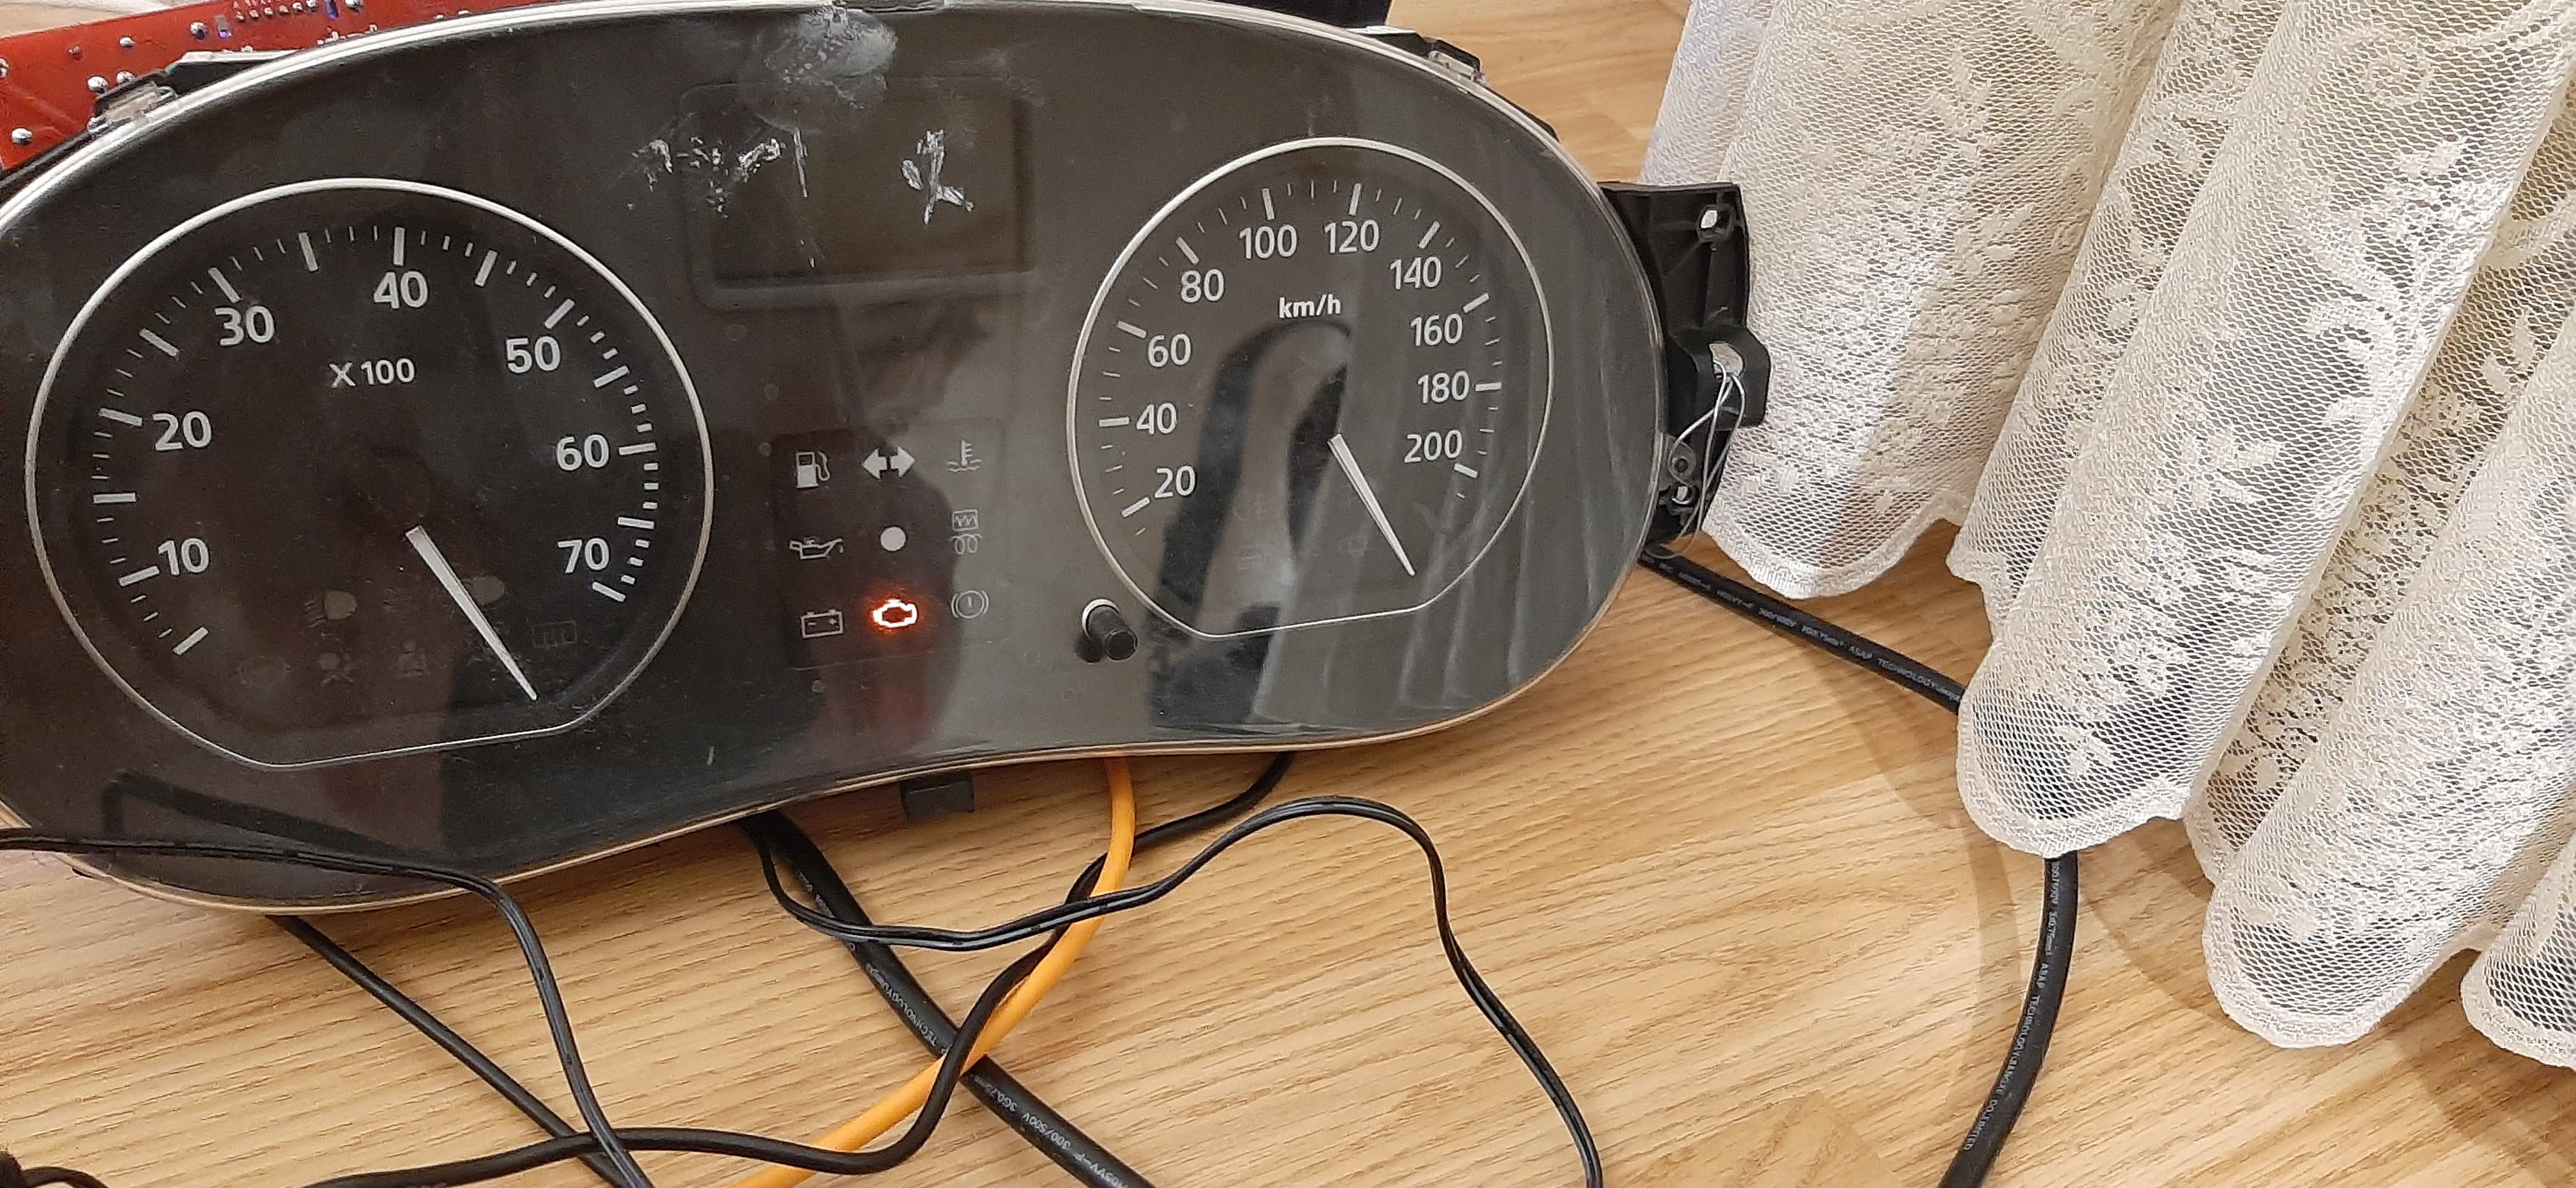engine22: (871, 596, 920, 631)
